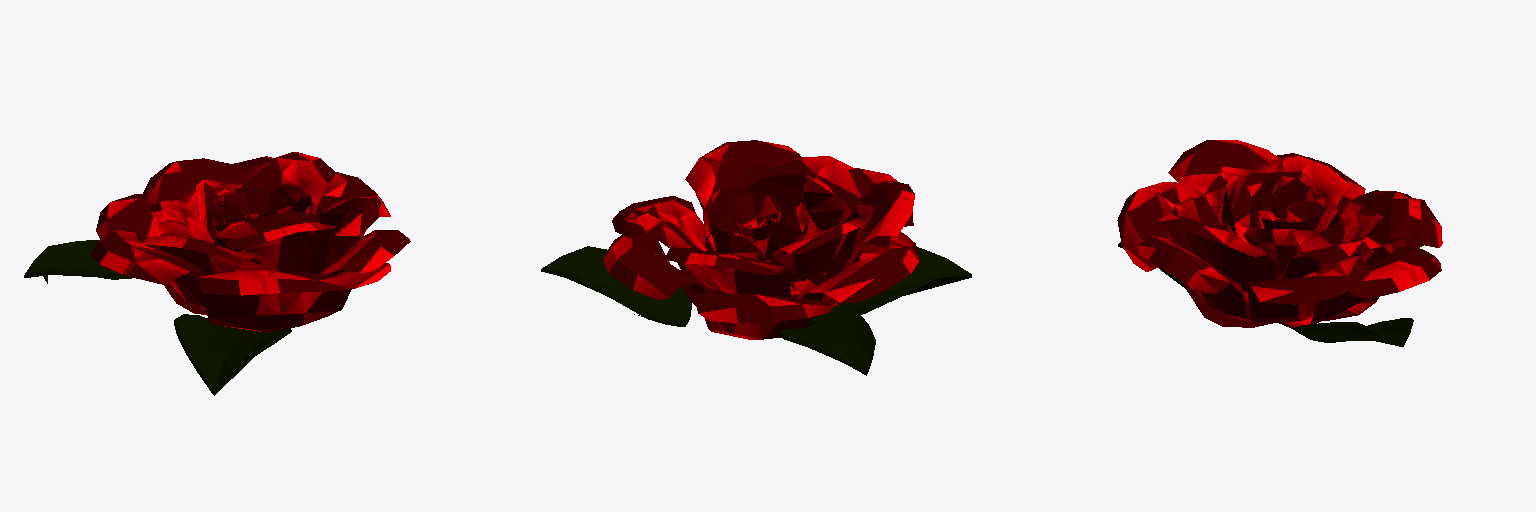
3 views of the same model, side by side, from view 1: azimuth 30°, elevation 25°; view 2: azimuth 150°, elevation 25°; view 3: azimuth 270°, elevation 25° (orthographic).
Parts seen in each view (by area): view 1: Plane.014_Material.001_0, Plane.014_Material.005_0, Plane.014_Material.003_0; view 2: Plane.014_Material.001_0, Plane.014_Material.005_0, Plane.014_Material.003_0; view 3: Plane.014_Material.001_0, Plane.014_Material.005_0, Plane.014_Material.003_0.
Boxes of the visible parts, box(x1,y1,x2,y2) form: Plane.014_Material.001_0: box(91, 152, 410, 332); Plane.014_Material.005_0: box(96, 152, 393, 332); Plane.014_Material.003_0: box(24, 240, 291, 395); Plane.014_Material.001_0: box(603, 140, 919, 339); Plane.014_Material.005_0: box(603, 141, 919, 339); Plane.014_Material.003_0: box(541, 246, 971, 375); Plane.014_Material.001_0: box(1117, 140, 1441, 329); Plane.014_Material.005_0: box(1122, 140, 1442, 327); Plane.014_Material.003_0: box(1118, 190, 1425, 346).
Bounding box in the file's own units: 5.14 × 2 × 4.37.
3 materials, 1 textured.